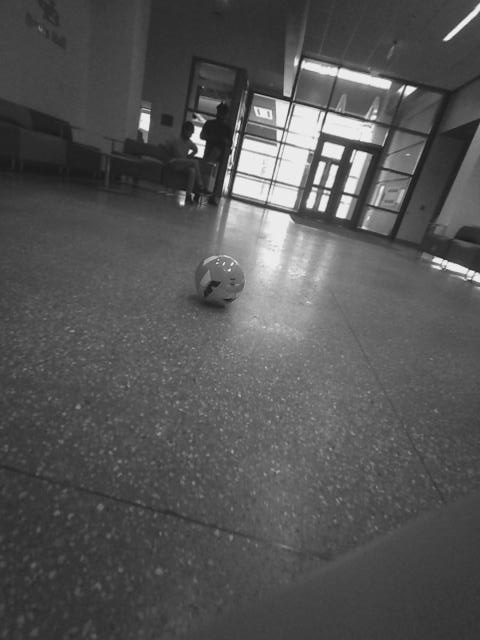ball: (384, 298, 447, 353)
